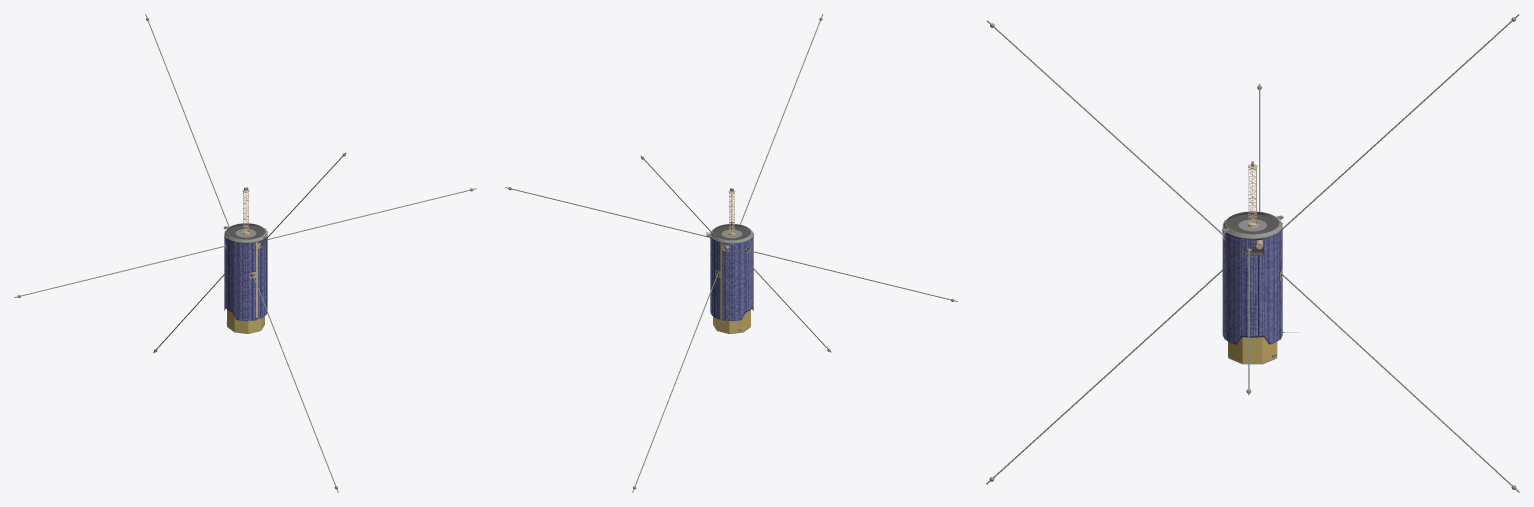
The model's file is atmosphere-space-transition-region-explorer-astr.glb.
3 views of the same model, side by side, from view 1: azimuth 30°, elevation 25°; view 2: azimuth 150°, elevation 25°; view 3: azimuth 270°, elevation 25° (orthographic). The views are drawn at different scales.
Parts seen in each view (by area): view 1: main body; view 2: main body; view 3: main body.
Boxes of the visible parts, <box> form: main body: <box>14,14,476,492</box>; main body: <box>505,14,957,492</box>; main body: <box>986,14,1519,492</box>.
Size of the model in its own units: 110 by 78.27 by 80.01.
Materials: 3 (3 with a texture image).
